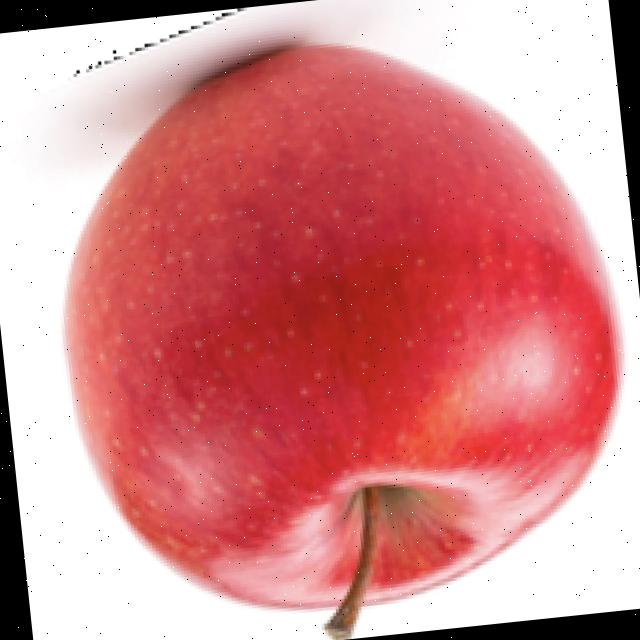apple: (42, 5, 630, 640)
